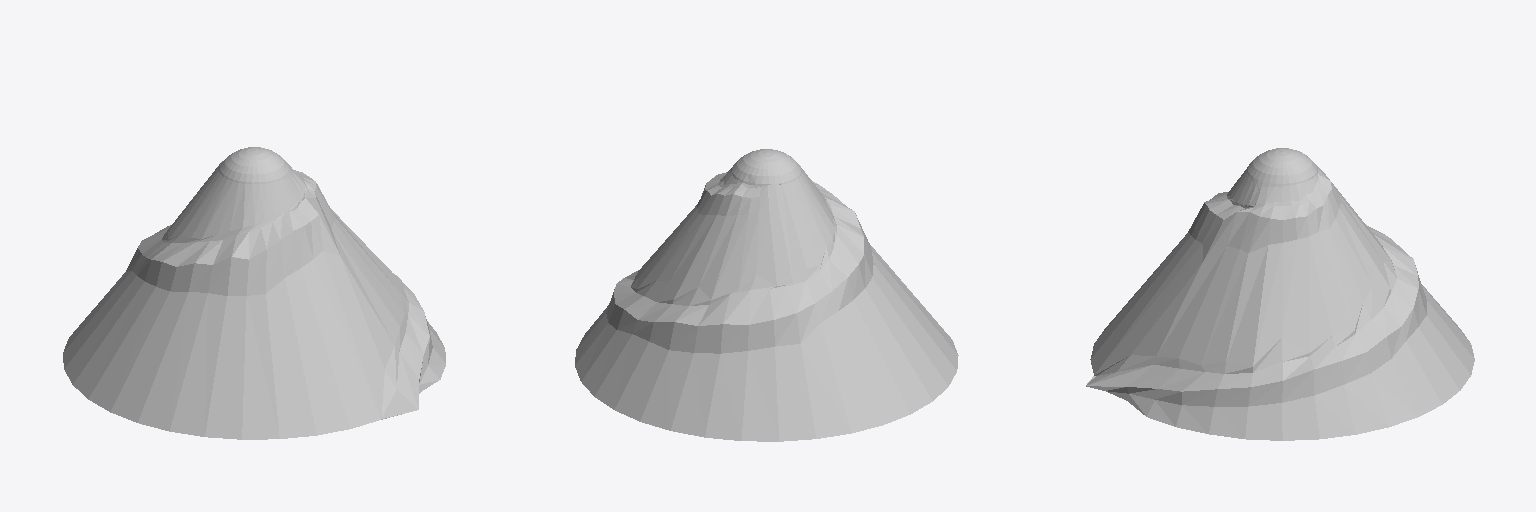
The model's file is Mountain.obj.
3 views of the same model, side by side, from view 1: azimuth 30°, elevation 25°; view 2: azimuth 150°, elevation 25°; view 3: azimuth 270°, elevation 25° (orthographic).
Visible parts, largest first — view 1: Cone; view 2: Cone; view 3: Cone.
Boxes of the visible parts, x1=… form: Cone: x1=63, y1=147, x2=445, y2=439; Cone: x1=575, y1=149, x2=958, y2=441; Cone: x1=1086, y1=148, x2=1474, y2=440.
Bounding box in the file's own units: 12.62 × 7.55 × 12.8.